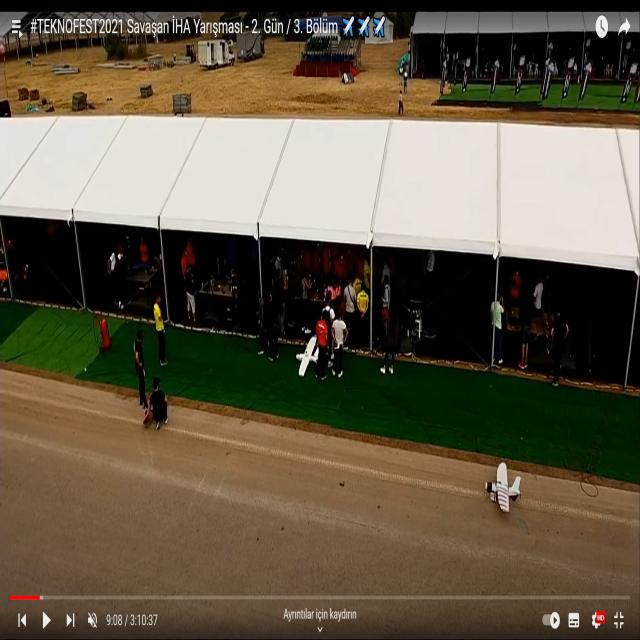iha: (483, 461, 522, 515)
